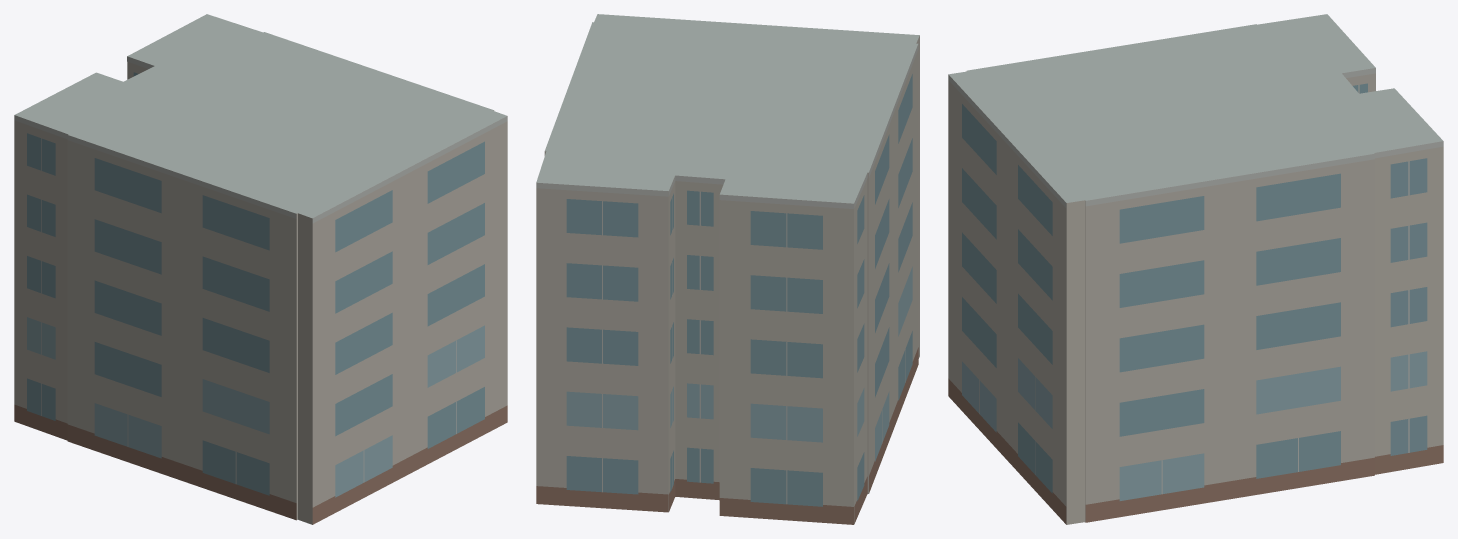
The model's file is survey-upis-32940424.glb.
3 views of the same model, side by side, from view 1: azimuth 30°, elevation 25°; view 2: azimuth 150°, elevation 25°; view 3: azimuth 270°, elevation 25° (orthographic). The views are drawn at different scales.
Visible parts, largest first — view 1: survey-upis-32940424.tmp; view 2: survey-upis-32940424.tmp; view 3: survey-upis-32940424.tmp.
Part boxes in pixels (left/top/right/bottom): survey-upis-32940424.tmp: left=14, top=14, right=507, bottom=524; survey-upis-32940424.tmp: left=536, top=14, right=919, bottom=524; survey-upis-32940424.tmp: left=948, top=14, right=1443, bottom=524.
Bounding box in the file's own units: 17.9 × 14.2 × 19.81.
